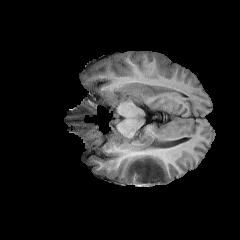glioma: (124, 154, 172, 183)
